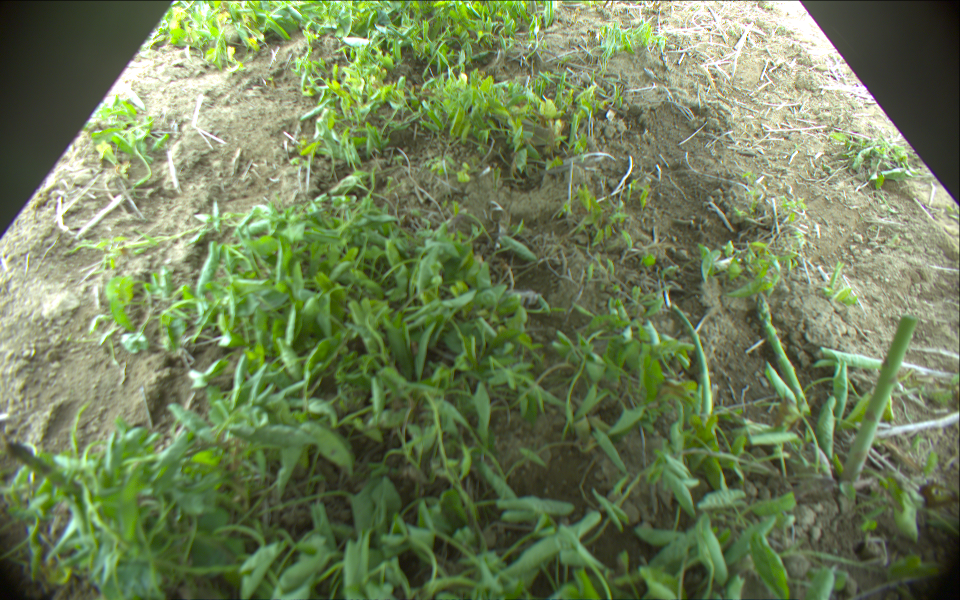aspa: (849, 312, 918, 498), (753, 290, 810, 416), (4, 437, 91, 513), (818, 343, 960, 383), (667, 303, 713, 421)
